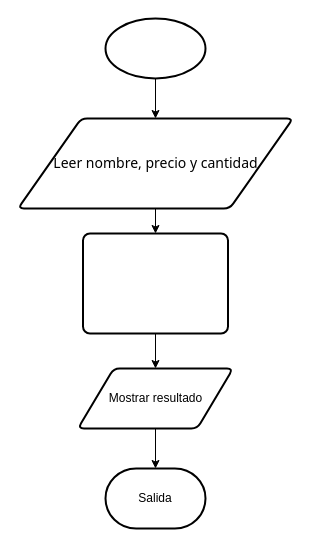
The diagram is 311 pixels wide and 546 high, and some of its shapes have lost their labels. Here are the shapes that lost their labels. From the top down, the centre of each, then its label:
the point at 155,48: Inicio
the point at 155,283: Total = precio * cantidad
